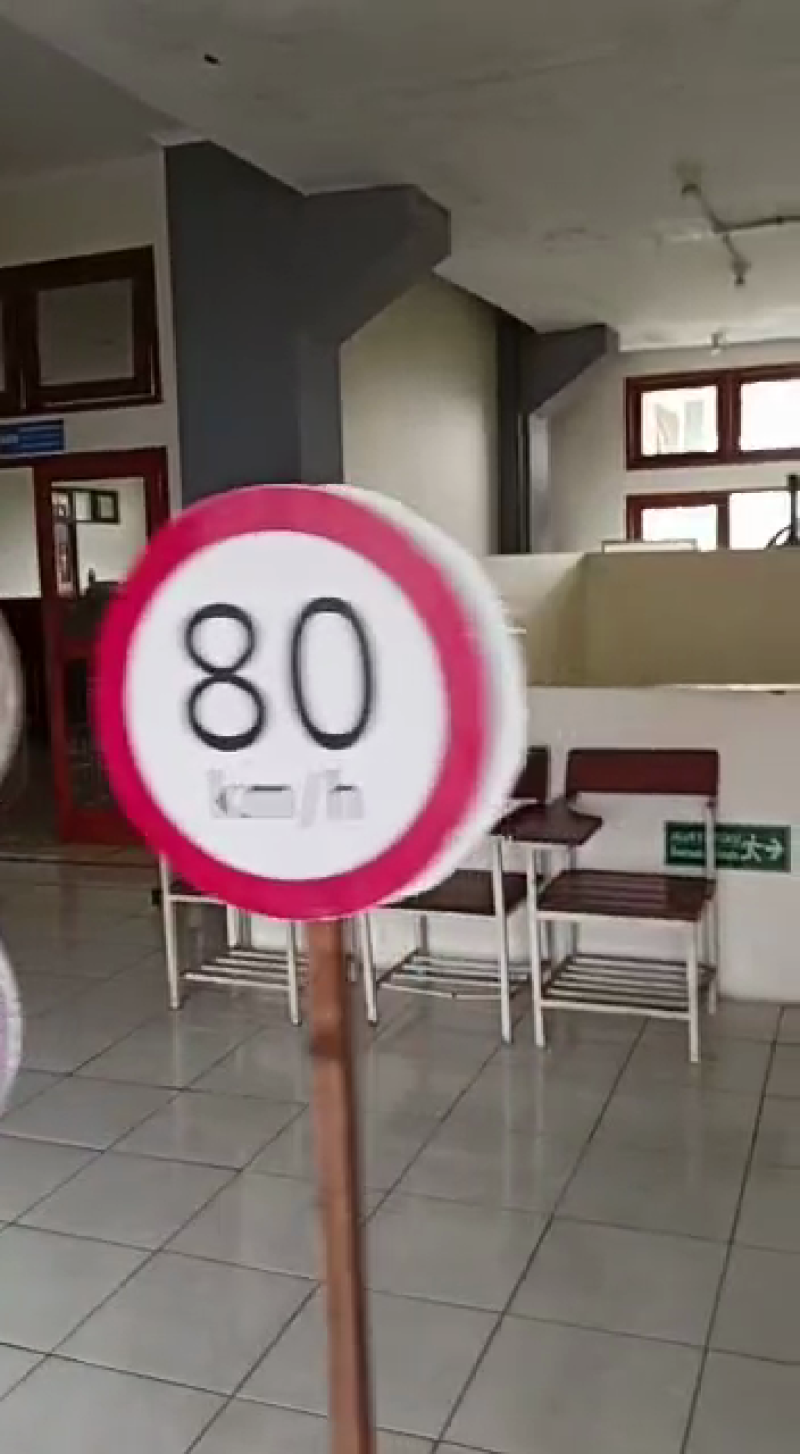batas maksimal 80kmperjam: (85, 477, 494, 918)
